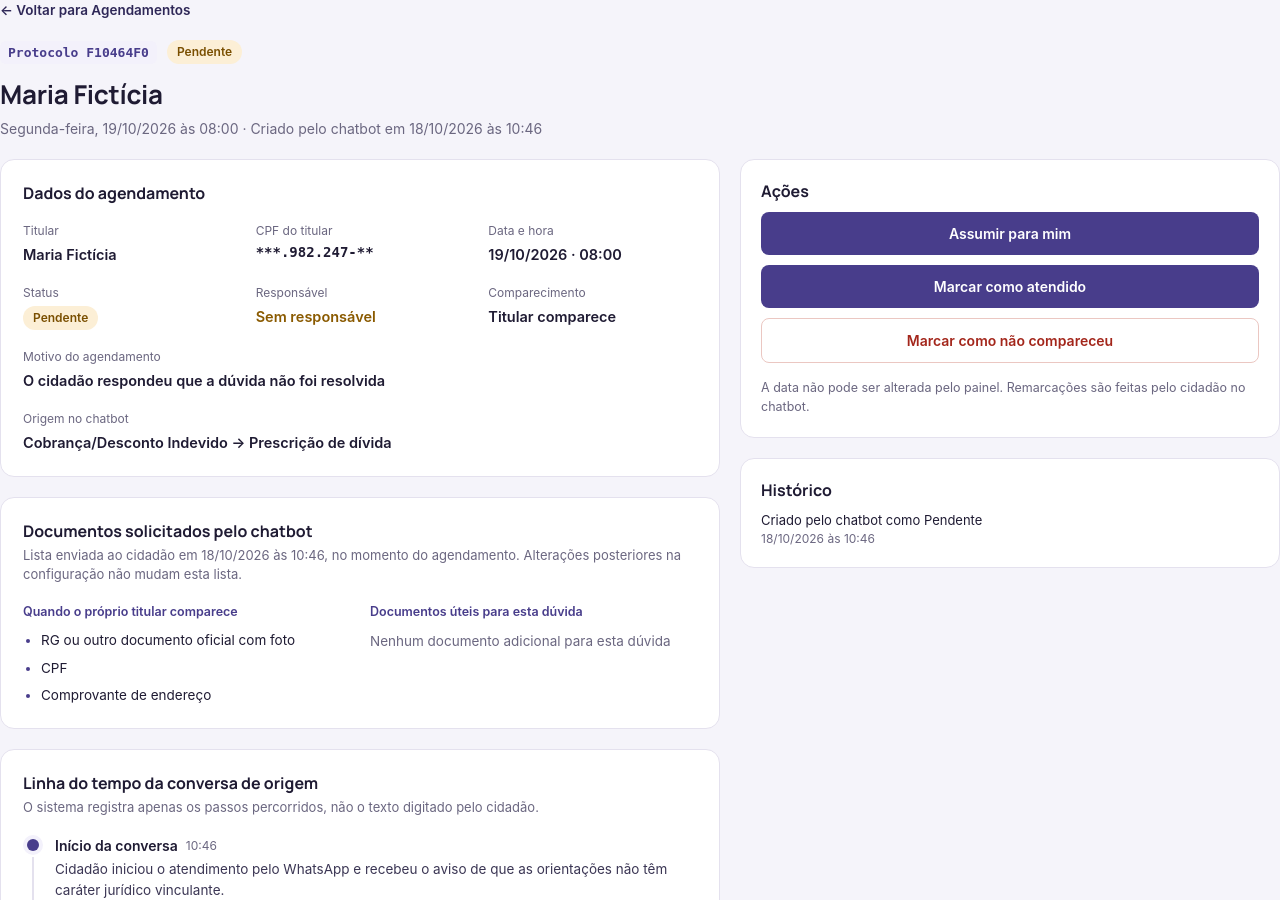
Test: AppointmentDetail.page: confirmação › num pendente, Marcar como atendido avisa que também assume
Expected: the heading "Maria Fictícia" is shown, [0,76,163,112]
Click the button "Marcar como atendido" at (1010, 287), box [761,265,1259,308]
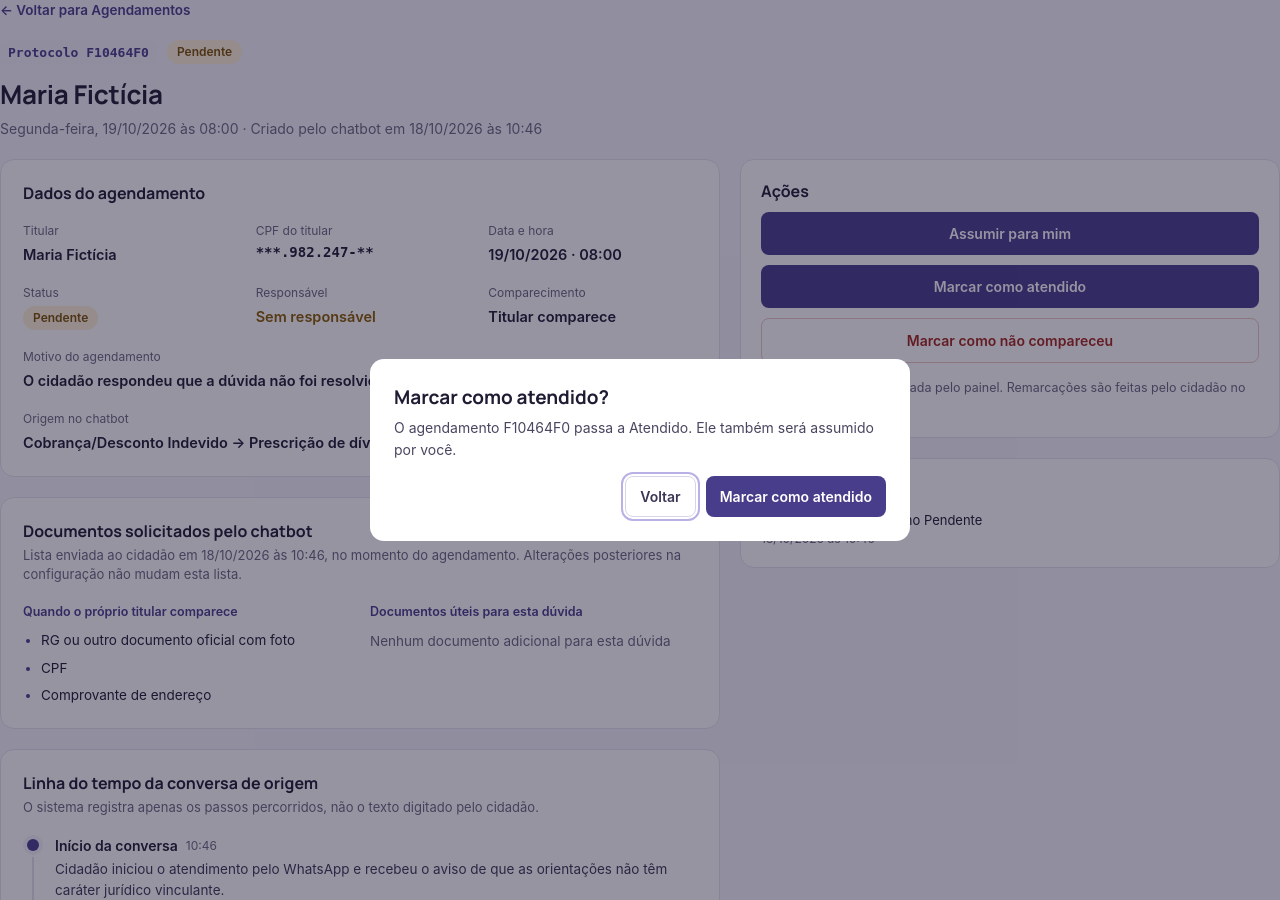
Expected: the button "Marcar como atendido" is shown, [706,476,886,517]
